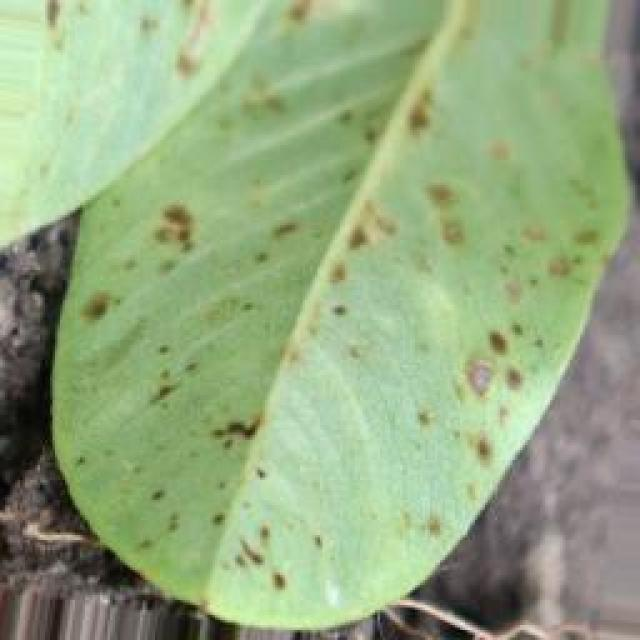Whitefly: (2, 0, 594, 565)
